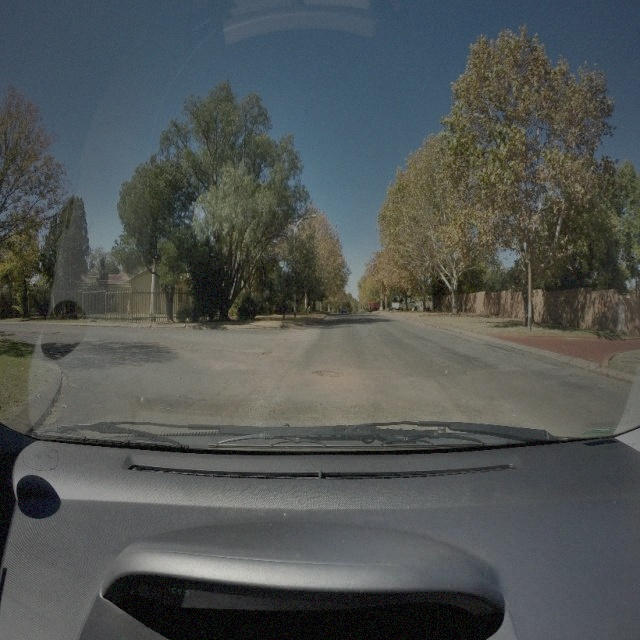pothole: (311, 365, 344, 381), (258, 347, 282, 357)
